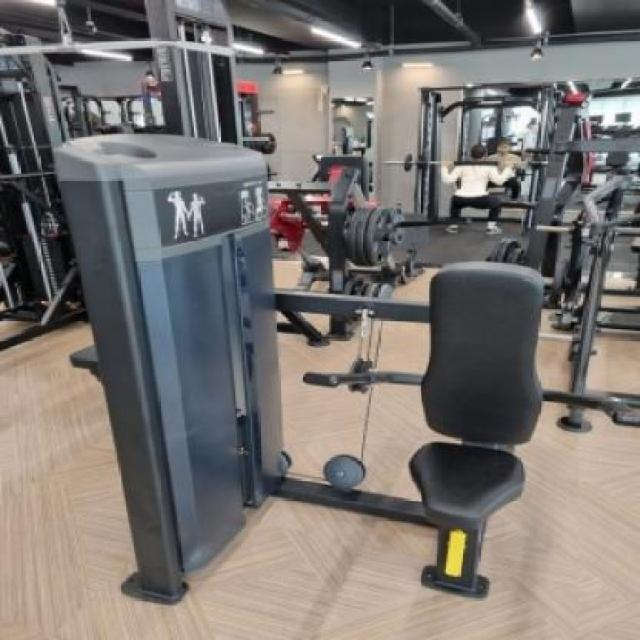seated dip machine: (68, 260, 629, 602)
